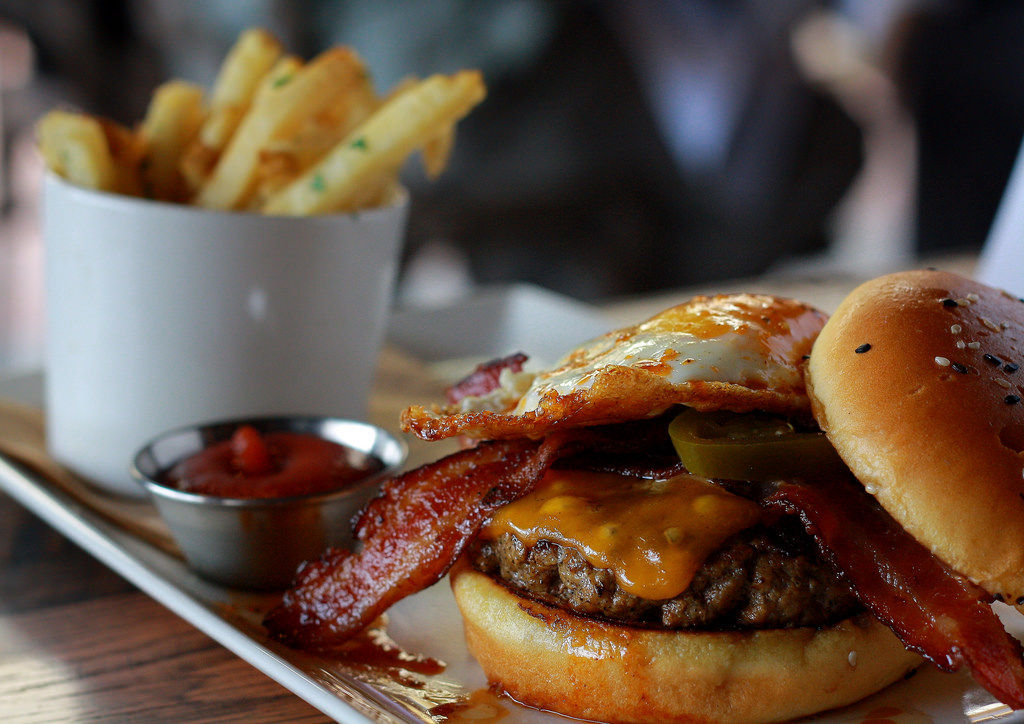fried egg: (459, 295, 809, 413)
slice of bread: (806, 260, 1024, 602), (448, 580, 935, 716)
